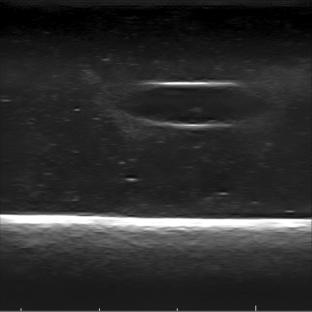vessel: (133, 80, 258, 130)
